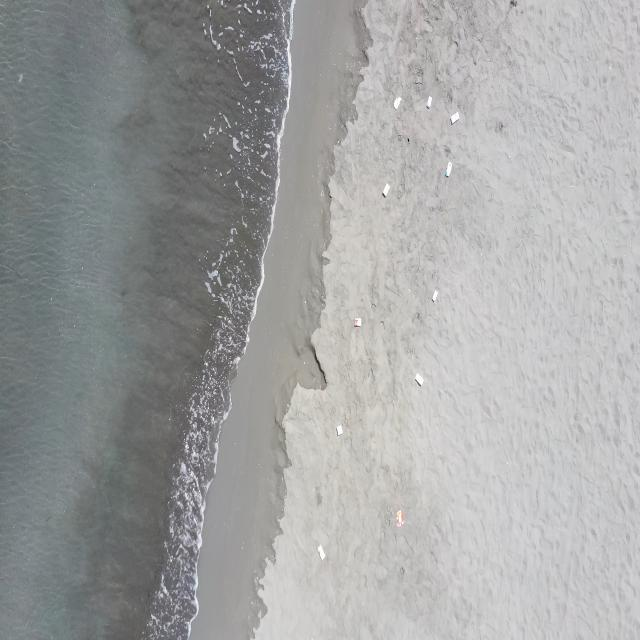retort-pouch: (395, 508, 405, 528), (317, 543, 327, 562), (414, 372, 425, 388), (445, 160, 453, 179), (382, 182, 391, 198), (450, 111, 460, 125), (393, 96, 402, 111), (353, 317, 363, 328), (431, 289, 438, 303), (426, 95, 433, 109), (336, 424, 344, 436), (243, 80, 251, 87)
